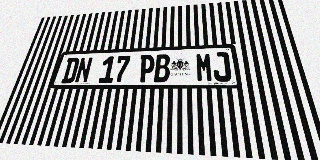1: (98, 56, 117, 83)
7: (113, 56, 131, 83)
B: (154, 54, 170, 82)
D: (61, 57, 80, 83)
J: (212, 52, 232, 82)
M: (195, 52, 214, 82)
N: (74, 57, 93, 83)
P: (138, 55, 155, 83)
